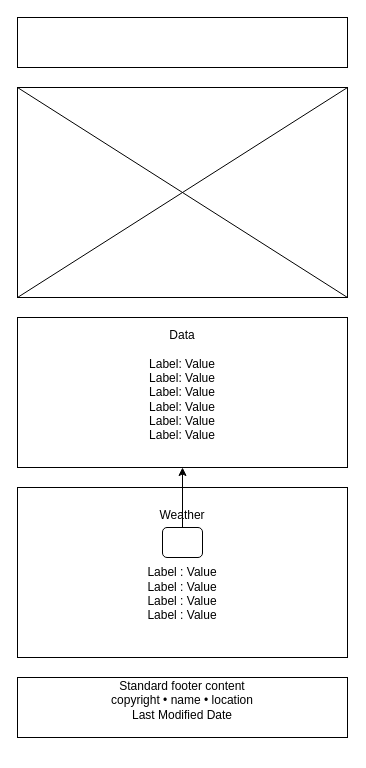
Image size: 366x768. Some labels were removed from this diagram. Here are the shapes that lost their labels. From the top down, the centre of each, then its label:
At point (182, 42): "Place Title".
At point (182, 192): "Small Image".
